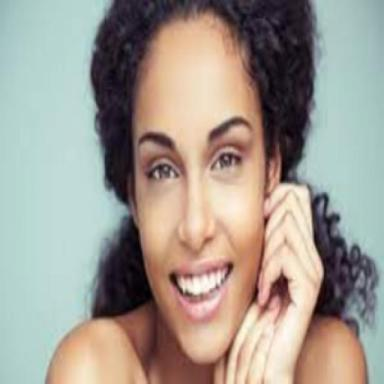normal skin: (47, 12, 365, 384)
